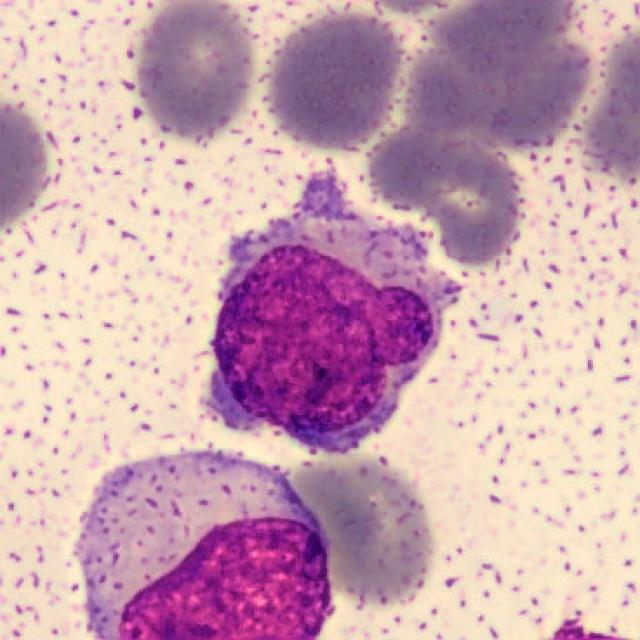Mieloblasto: (210, 159, 459, 455), (73, 451, 334, 640)
